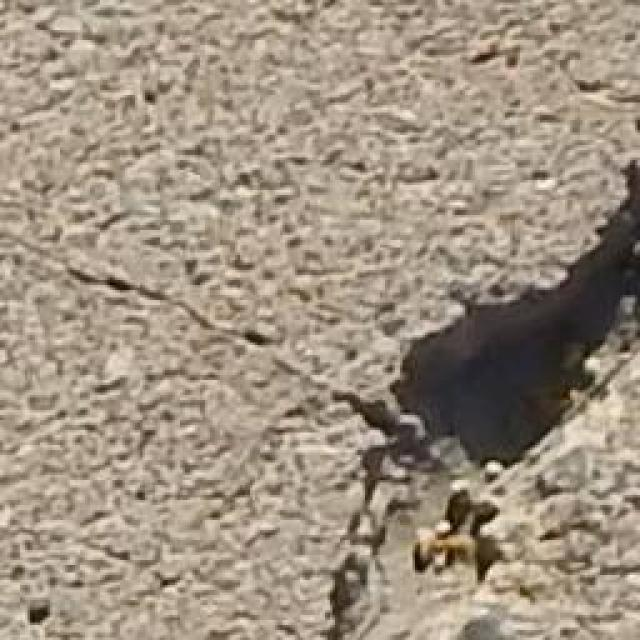concrete-crack: (50, 125, 640, 640)
